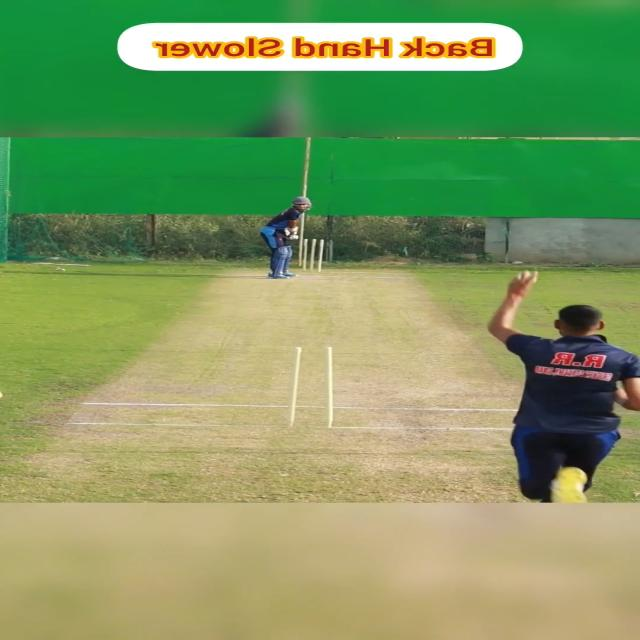stump: (285, 346, 336, 428), (300, 238, 324, 272)
